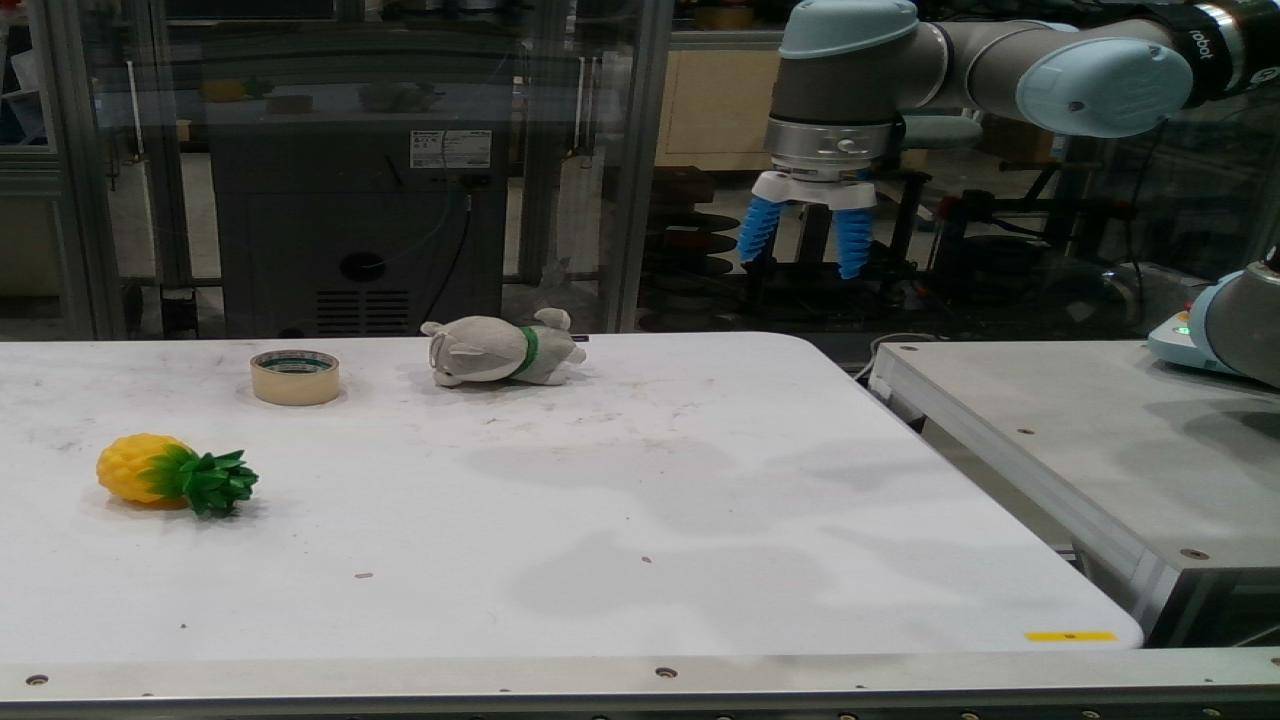UR5: (754, 0, 1279, 213), (1187, 238, 1279, 389)
gripper_left: (739, 197, 782, 258)
gripper_right: (836, 208, 869, 279)
target: (95, 433, 260, 518), (421, 308, 587, 388), (250, 349, 340, 405)
